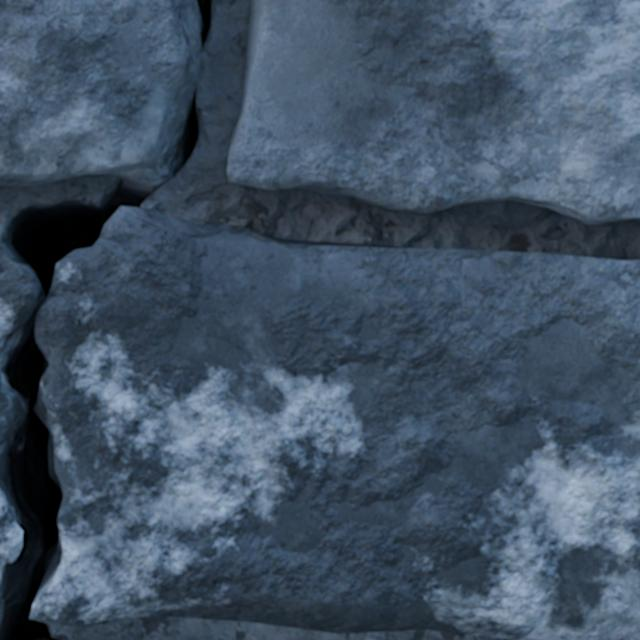broken_brick: (30, 206, 639, 639), (0, 243, 38, 345), (0, 490, 21, 575), (0, 393, 5, 414)
crack: (0, 0, 212, 639), (227, 0, 639, 224)
